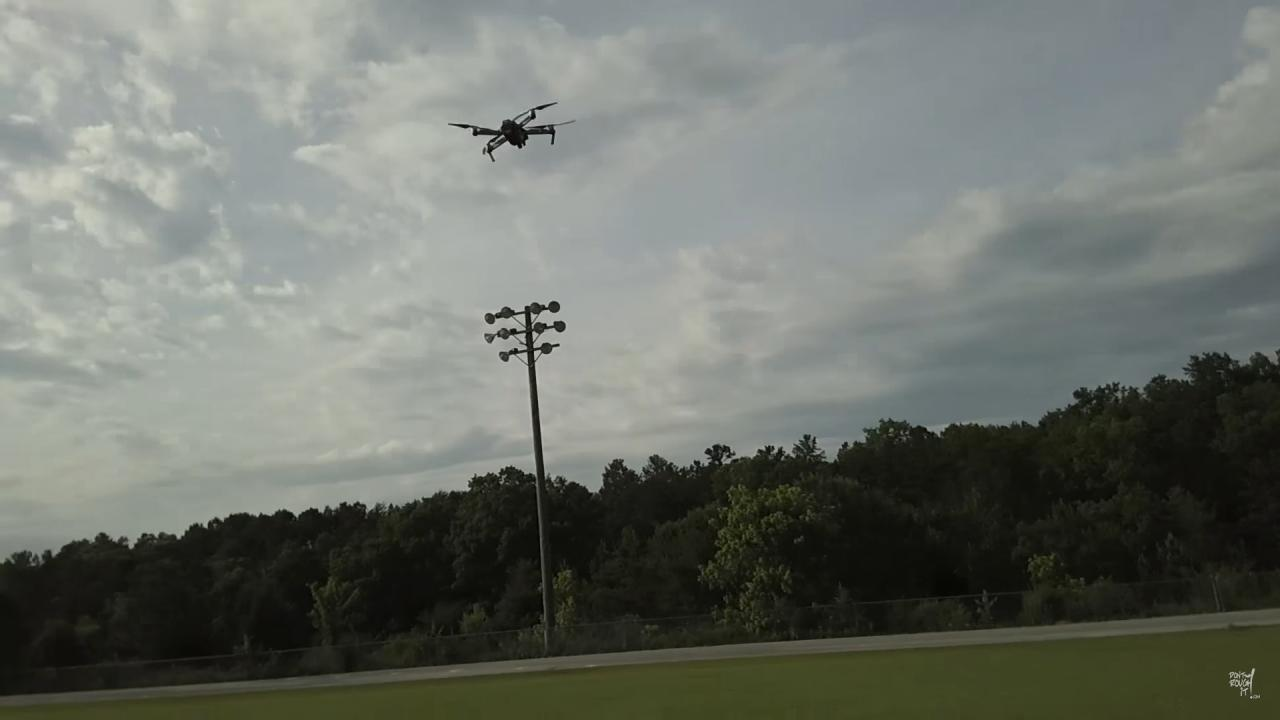Drone: (438, 95, 588, 170)
